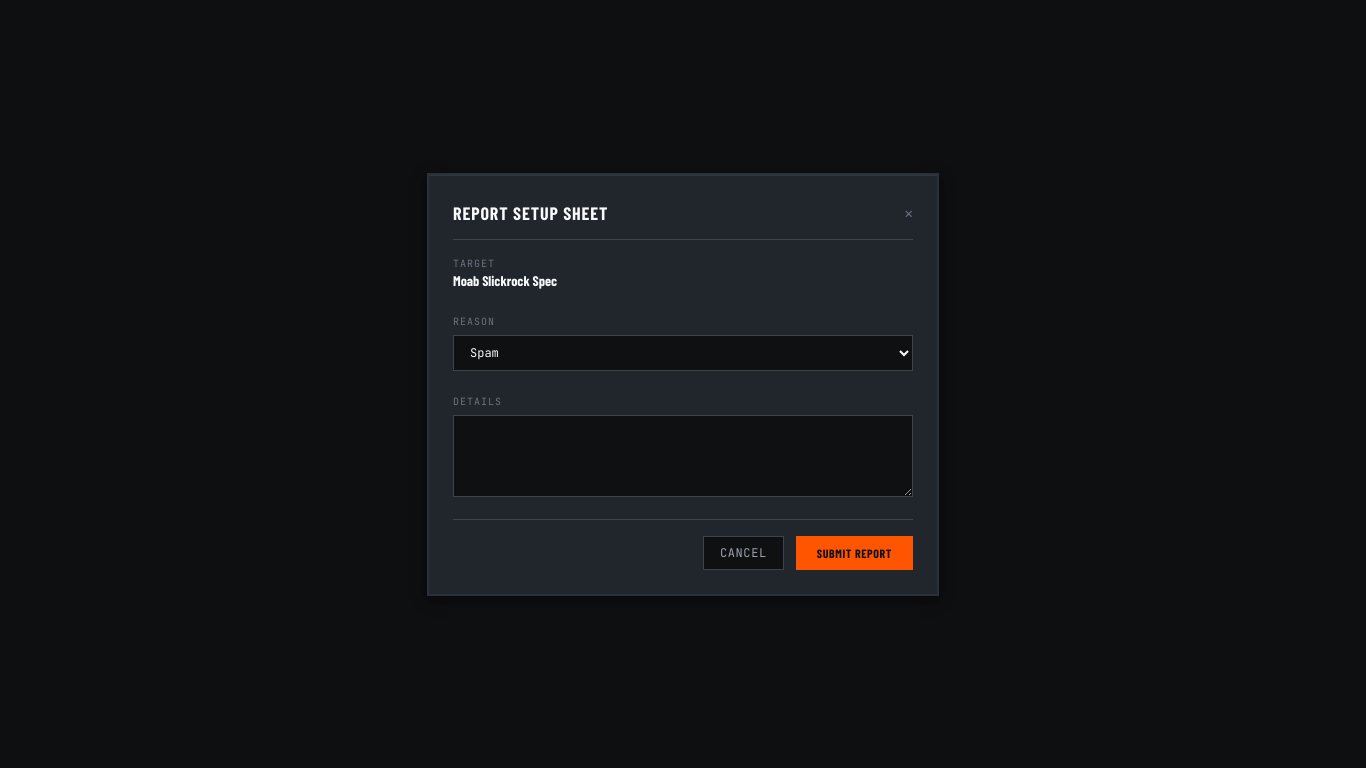
it: ReportSetupModal › posts a setup report with the selected reason
This screenshot has width=1366, height=768.
Select "Spam" in the dropdown at (683, 352), box [453,334,913,370]
Click the button "Submit Report" at (854, 552), box [796,536,913,570]
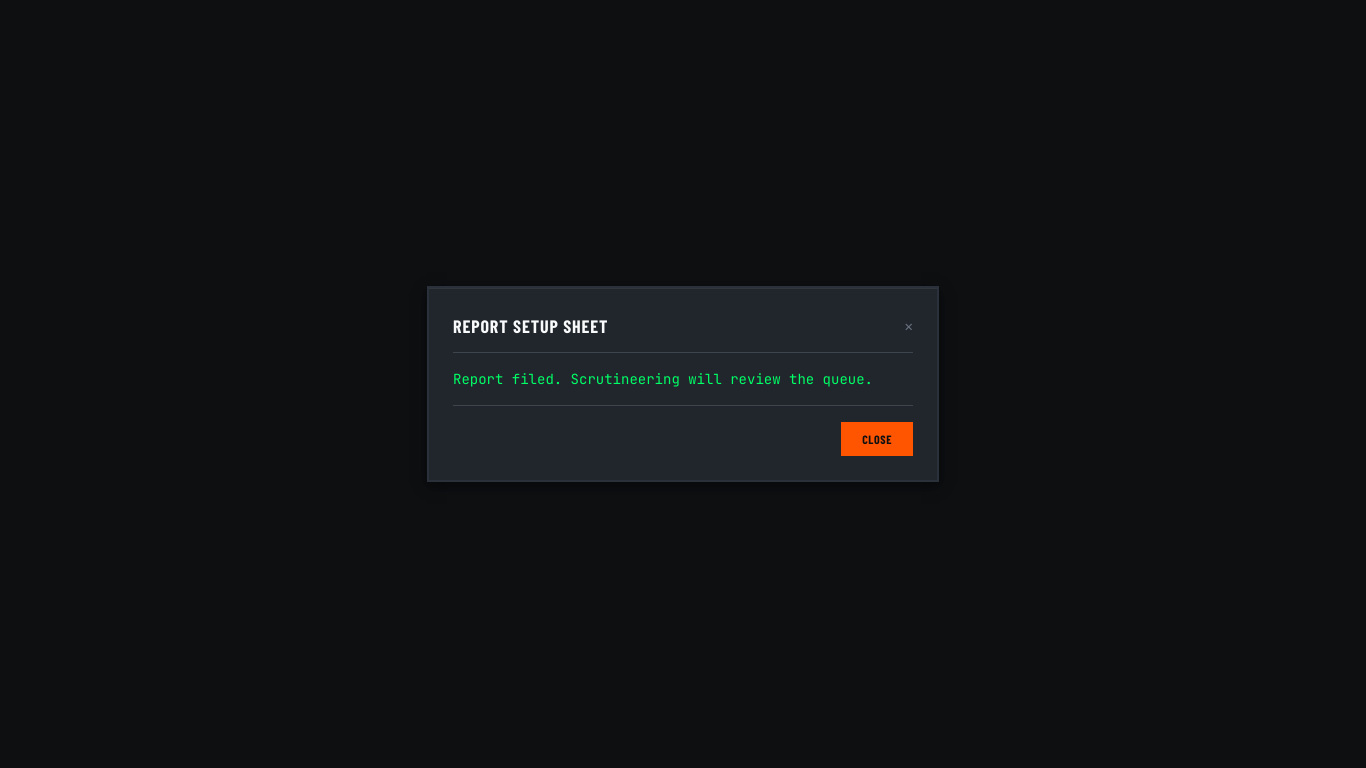
Expected: the text "Report filed. Scrutineering will review the queue." is shown, [453,369,913,389]
